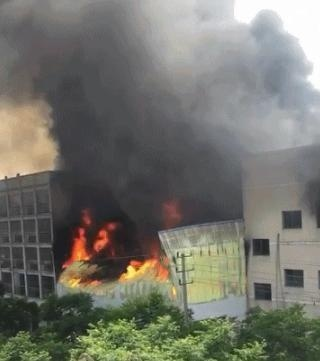fire: (59, 211, 169, 288)
